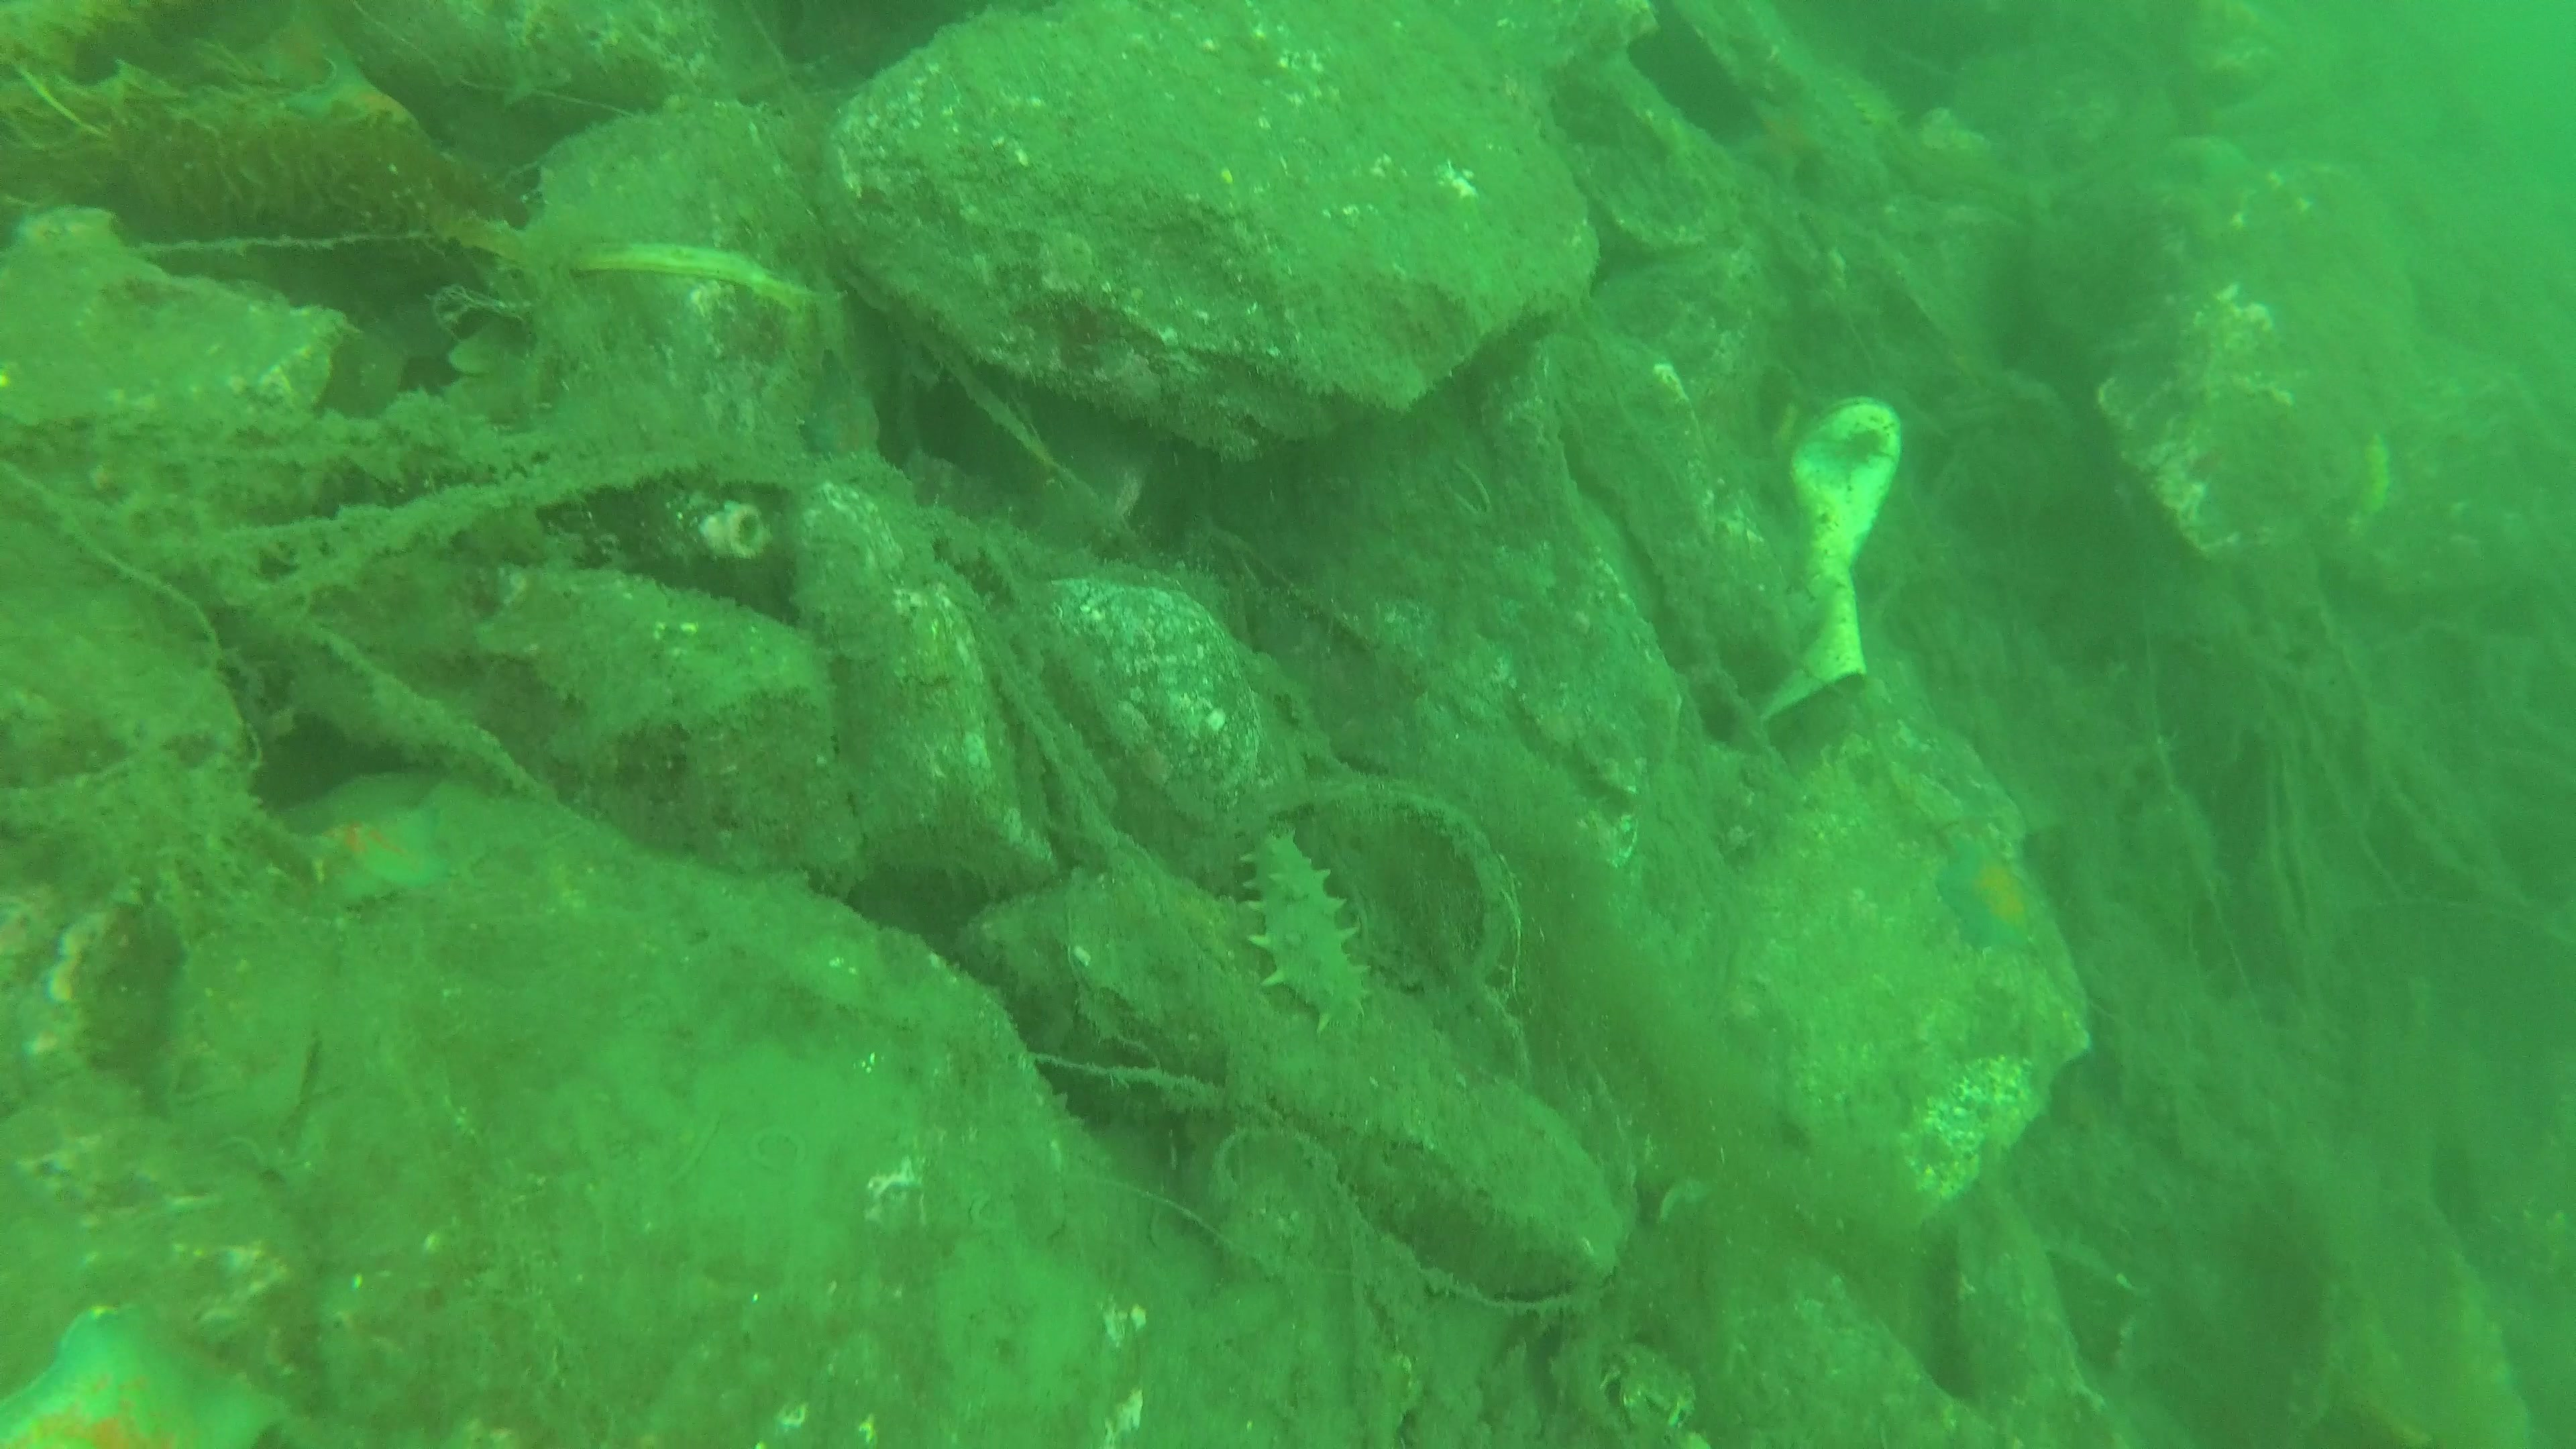holothurian: (1246, 826, 1376, 1035)
starfish: (9, 1307, 290, 1449), (313, 819, 444, 913), (1941, 839, 2038, 954)
